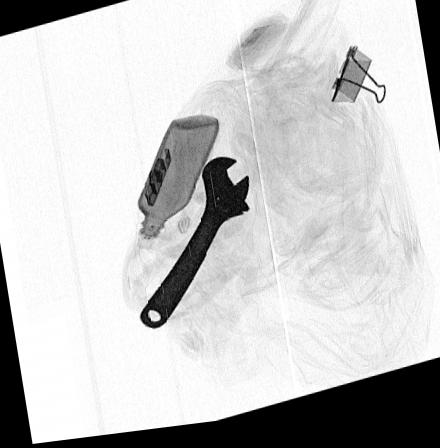Wrench: (138, 161, 248, 335)
